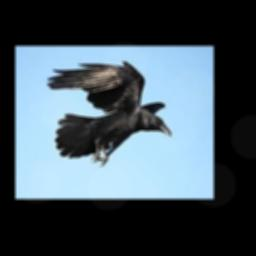Crow: (46, 60, 170, 166)
